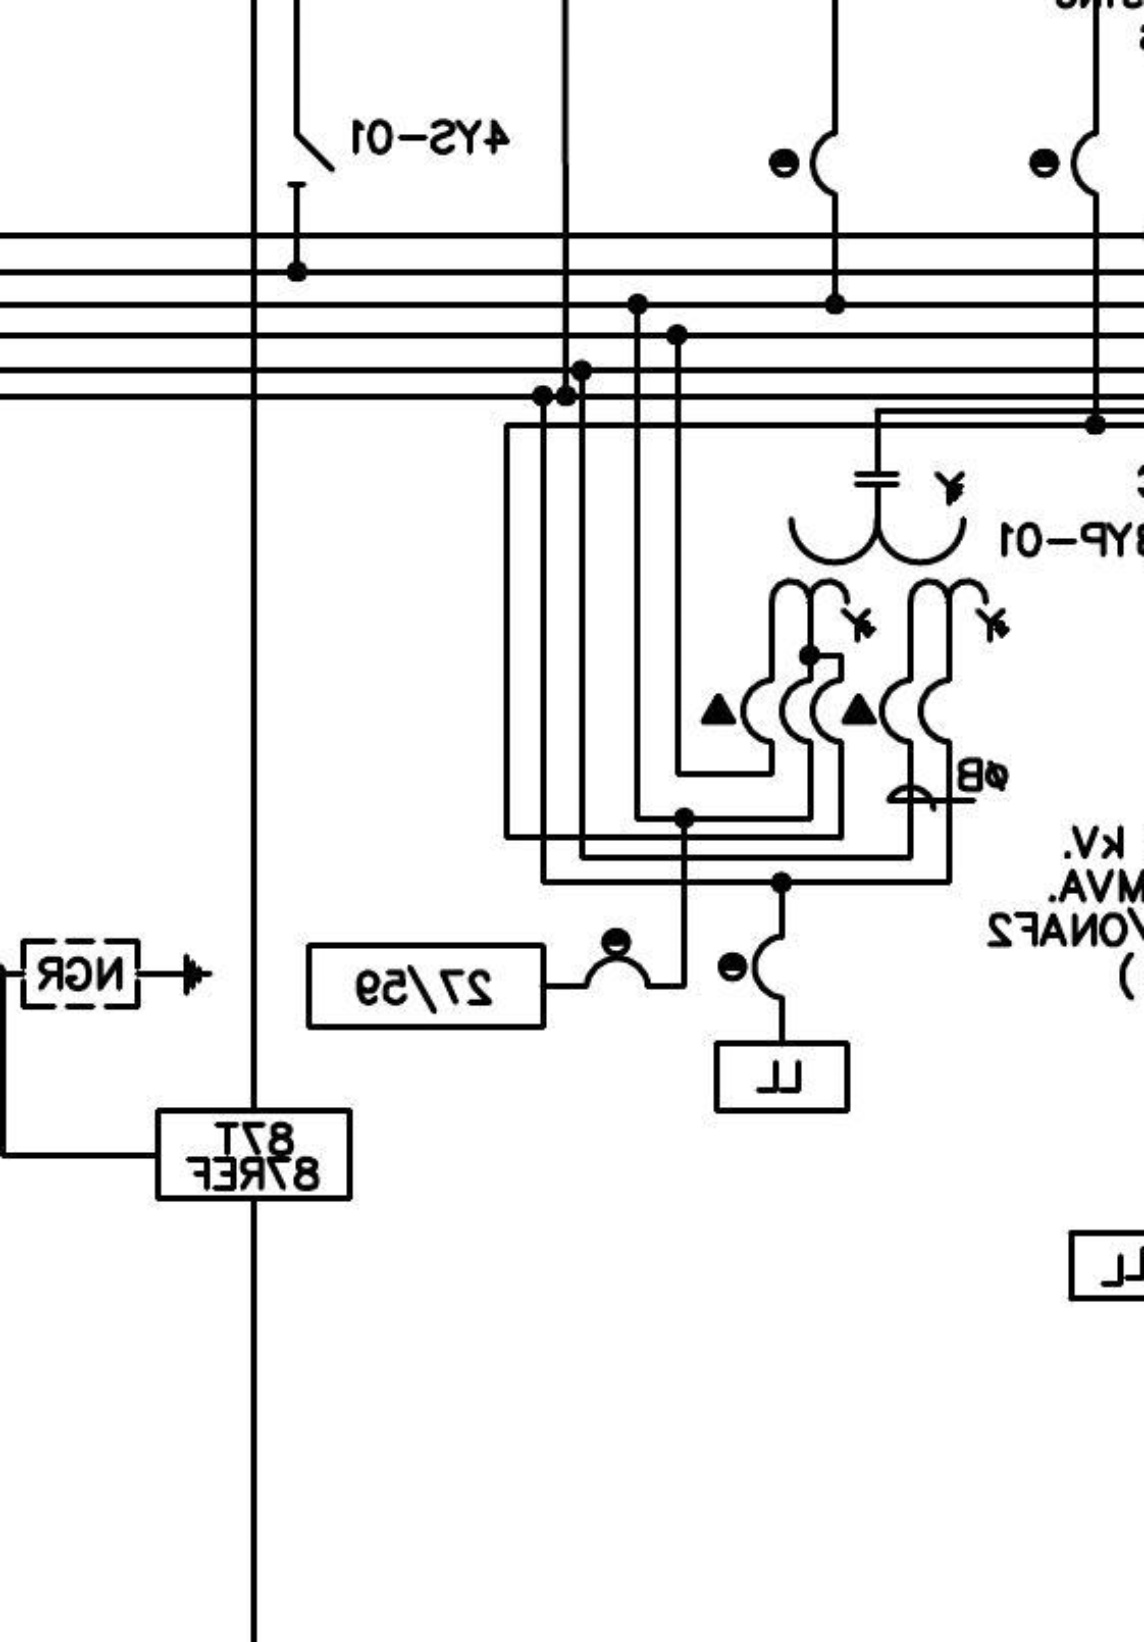115_cvt_3p: (767, 470, 1012, 645)
115_ds: (284, 131, 337, 187)
LL: (714, 1039, 851, 1114)
NGR_future: (20, 937, 213, 1011)
